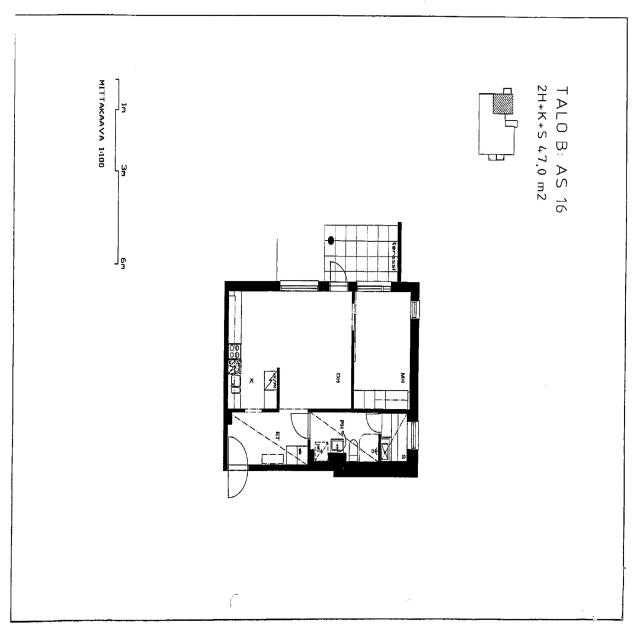door: (228, 436, 248, 471), (228, 464, 248, 498), (330, 257, 347, 291), (290, 413, 310, 438), (365, 413, 381, 432)
